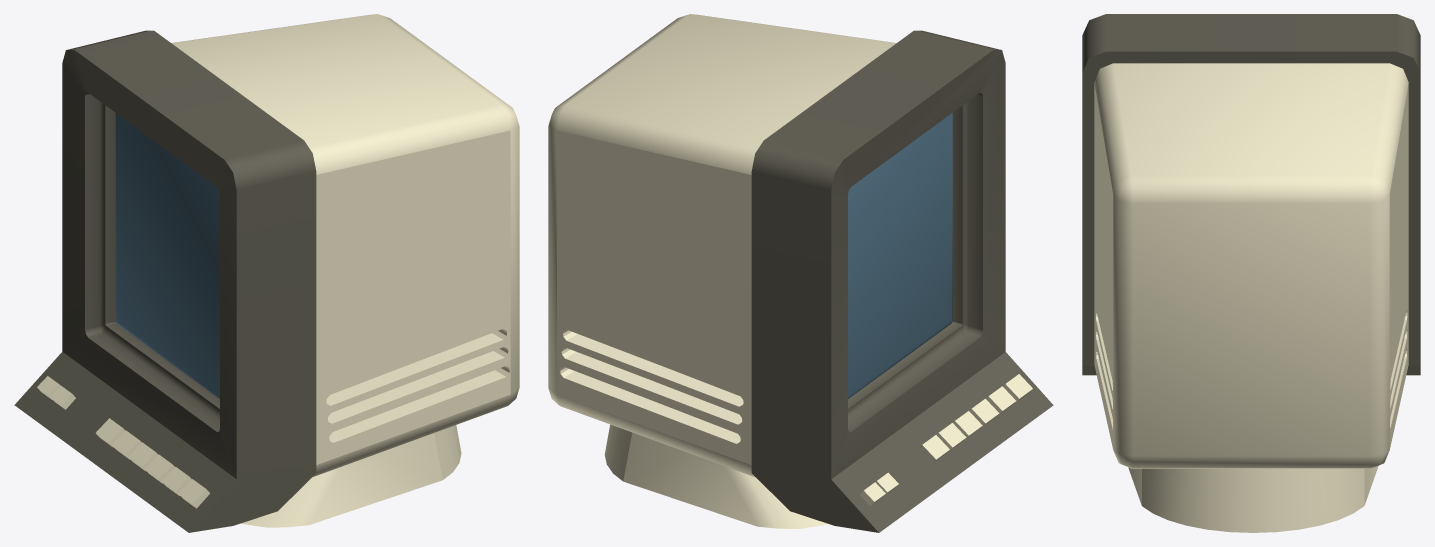
Rendered from monitor_tier7.fbx.
The picture shows the model from 3 angles, left to right: view 1: azimuth 30°, elevation 25°; view 2: azimuth 150°, elevation 25°; view 3: azimuth 270°, elevation 25°; orthographic projection. The views are drawn at different scales.
Visible parts, largest first — view 1: Cube.003; view 2: Cube.003; view 3: Cube.003.
Boxes of the visible parts, box(x1,y1,x2,y2) form: Cube.003: box(14, 14, 519, 532); Cube.003: box(548, 14, 1053, 532); Cube.003: box(1082, 14, 1420, 532).
Bounding box in the file's own units: 0.6493 × 0.6847 × 0.5528.
